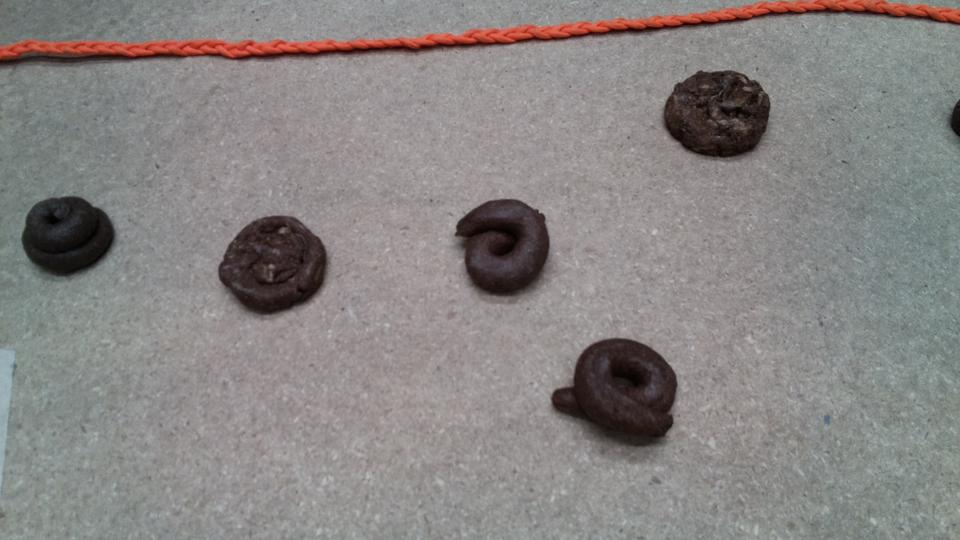poop: (546, 332, 691, 448), (214, 211, 338, 320), (658, 67, 776, 163), (452, 195, 554, 296), (20, 196, 121, 279)
rope: (2, 30, 410, 73), (383, 20, 720, 57), (655, 3, 960, 43)
